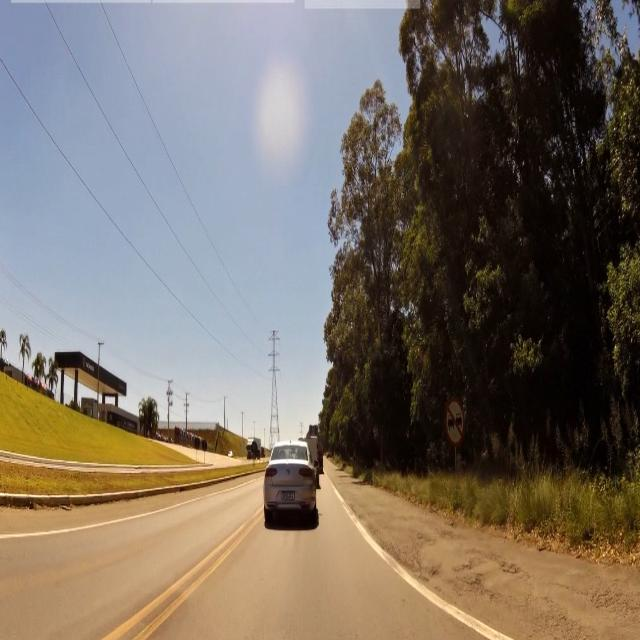R-7: (447, 401, 465, 447)
